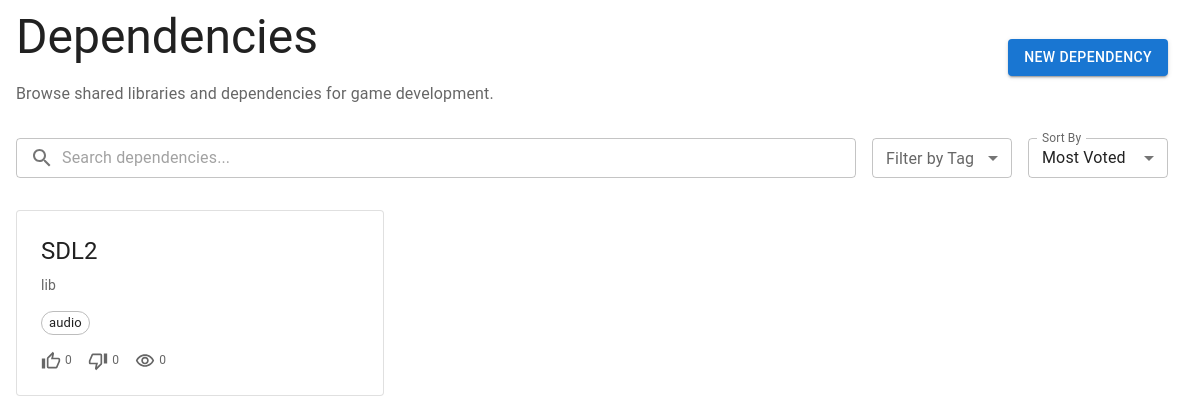
Test: dependencies list page › lists real dependencies and filters them
The image size is (1186, 413).
Expected: the heading "SDL2" is shown, 41,237 -> 97,265
In the field with placeholder "Search dependencies...": (459, 158) 62,138 -> 856,178, type "zzzz-nothing"
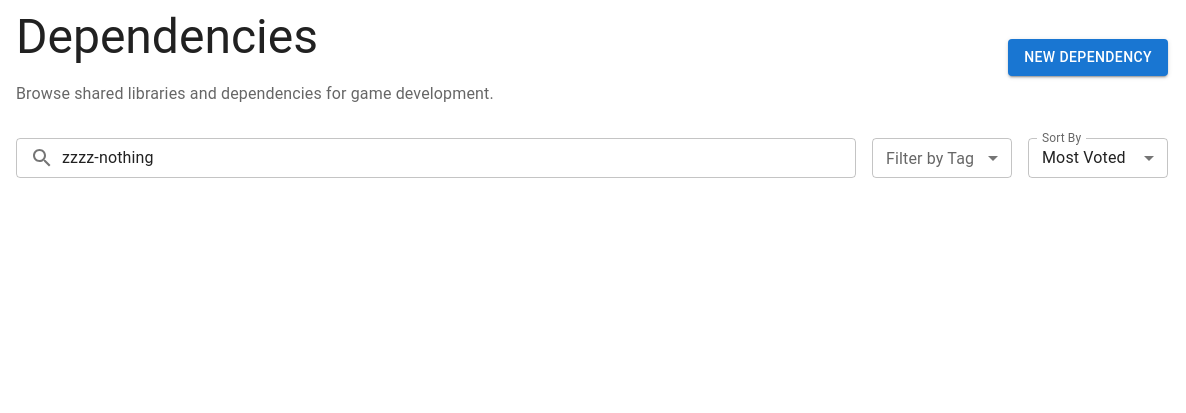
Now the link "SDL2" is gone
